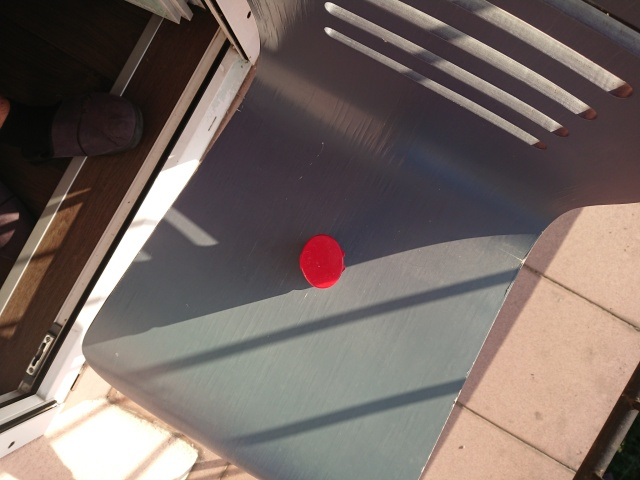Kotanyi Curry Spices Mix 70g: (295, 233, 346, 292)
